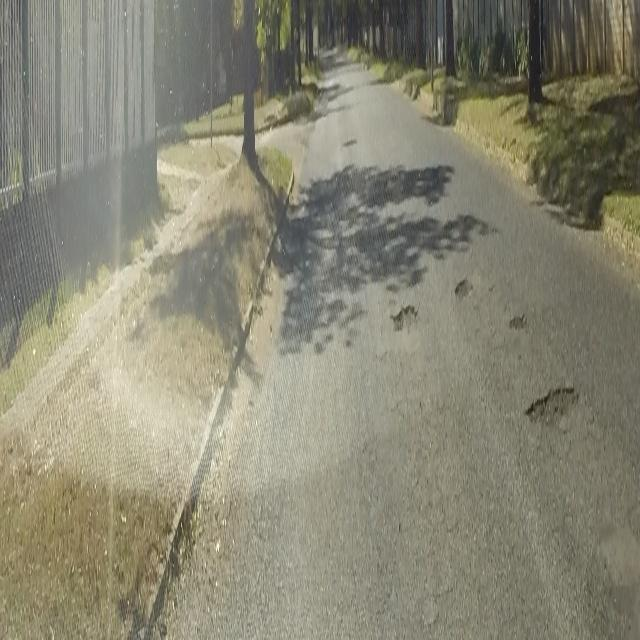pothole: (522, 366, 580, 436), (388, 300, 420, 335), (507, 300, 528, 336), (453, 269, 472, 305)
